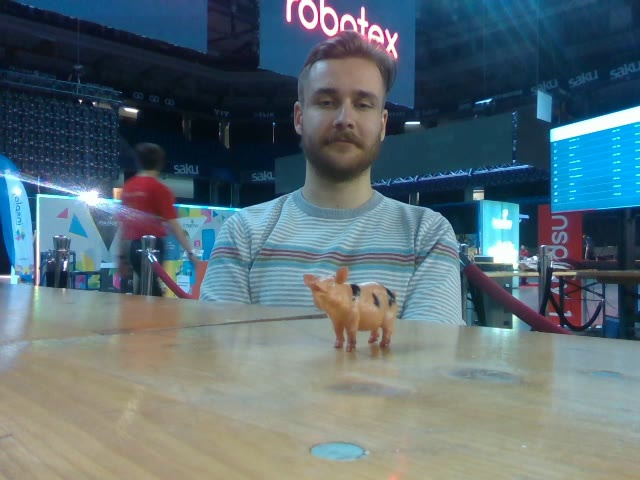toy: (302, 263, 397, 351)
